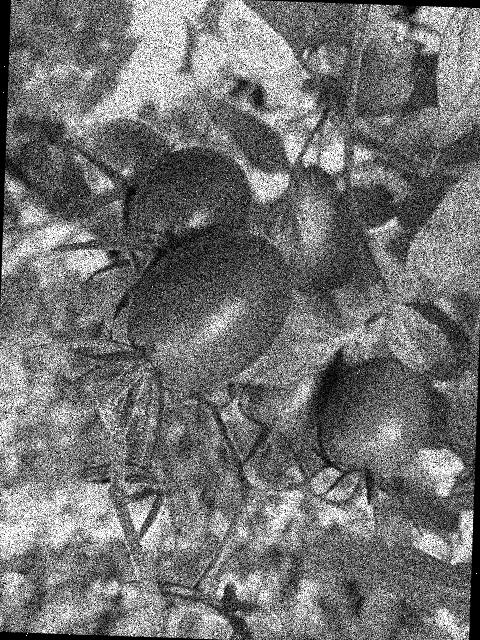l_fully_ripened: (123, 227, 295, 395), (129, 146, 254, 272), (247, 340, 345, 439)
l_green: (80, 115, 172, 216)
l_half_ripened: (317, 354, 431, 478)
